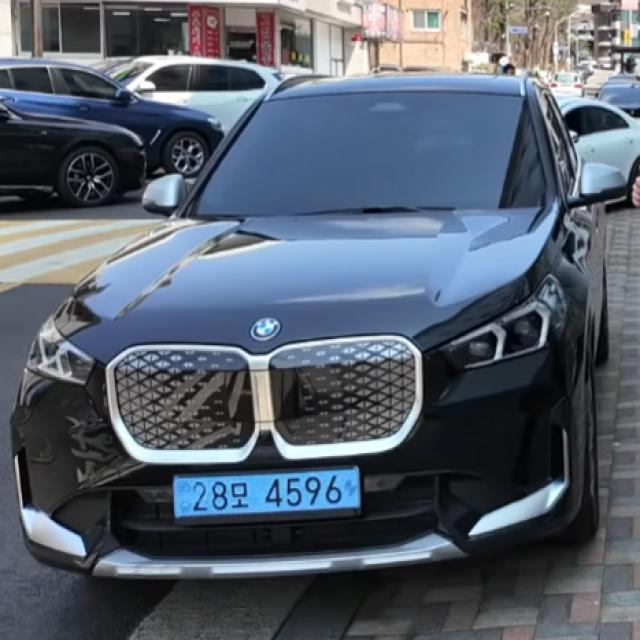car: (143, 449, 404, 540)
carev: (342, 461, 368, 517), (170, 473, 194, 523)
